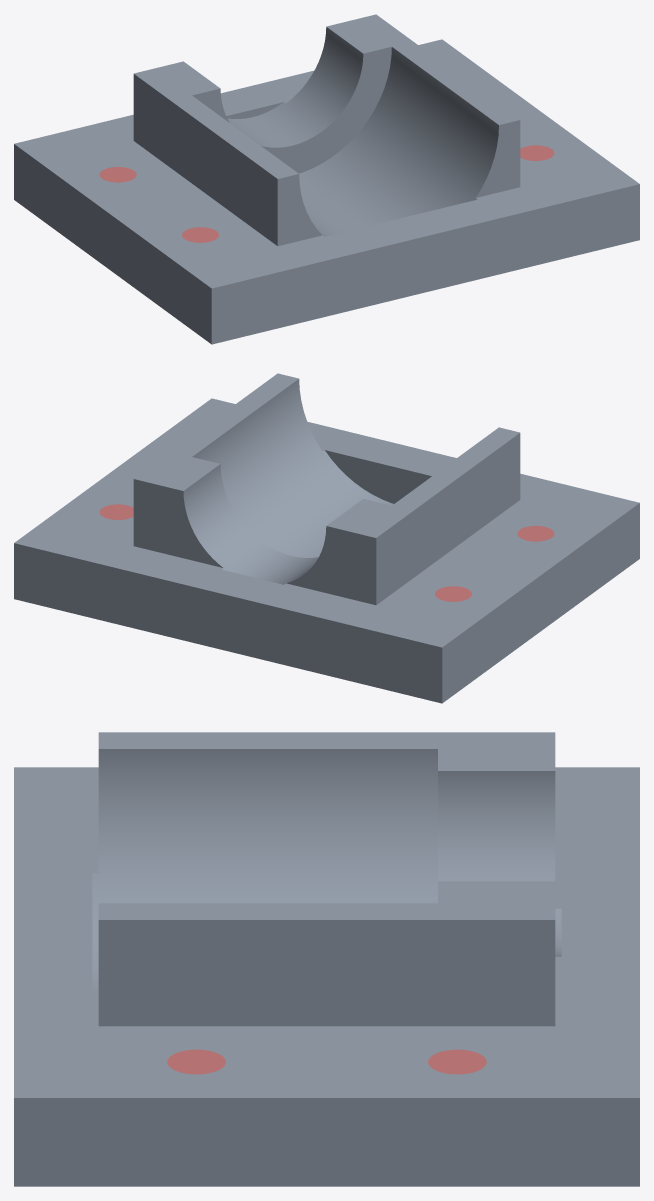
The model's file is step_05.glb.
The picture shows the model from 3 angles, top to bottom: view 1: azimuth 30°, elevation 25°; view 2: azimuth 150°, elevation 25°; view 3: azimuth 270°, elevation 25°; orthographic projection. The views are drawn at different scales.
Visible parts, largest first — view 1: part__saddle bearing block, removed__saddle bearing block; view 2: part__saddle bearing block, removed__saddle bearing block; view 3: part__saddle bearing block, removed__saddle bearing block.
Part boxes in pixels (x1=…): part__saddle bearing block: x1=14, y1=14, x2=639, y2=344; removed__saddle bearing block: x1=99, y1=145, x2=554, y2=242; part__saddle bearing block: x1=14, y1=373, x2=639, y2=703; removed__saddle bearing block: x1=99, y1=504, x2=554, y2=601; part__saddle bearing block: x1=14, y1=732, x2=639, y2=1186; removed__saddle bearing block: x1=167, y1=1049, x2=486, y2=1074.
Bounding box in the file's own units: 120 × 33 × 96.
